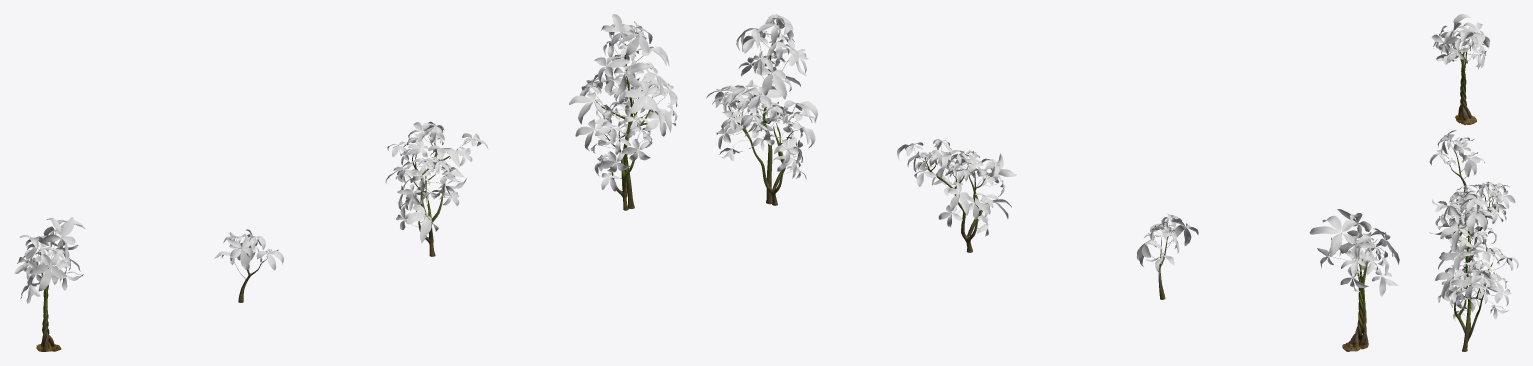
The model's file is pachira_aquatica_01_1k.fbx.
The picture shows the model from 3 angles, left to right: view 1: azimuth 30°, elevation 25°; view 2: azimuth 150°, elevation 25°; view 3: azimuth 270°, elevation 25°; orthographic projection. The views are drawn at different scales.
Visible parts, largest first — view 1: pachira_aquatica_01_leaves_d, pachira_aquatica_01_leaves_c, pachira_aquatica_01_leaves_a, pachira_aquatica_01_leaves_b, pachira_aquatica_01_bark_d, pachira_aquatica_01_bark_c, pachira_aquatica_01_bark_a; view 2: pachira_aquatica_01_leaves_d, pachira_aquatica_01_leaves_c, pachira_aquatica_01_leaves_a, pachira_aquatica_01_leaves_b, pachira_aquatica_01_bark_d, pachira_aquatica_01_bark_a, pachira_aquatica_01_bark_c; view 3: pachira_aquatica_01_leaves_d, pachira_aquatica_01_leaves_c, pachira_aquatica_01_leaves_a, pachira_aquatica_01_leaves_b, pachira_aquatica_01_bark_d, pachira_aquatica_01_bark_a, pachira_aquatica_01_bark_c, pachira_aquatica_01_bark_b.
Boxes of the visible parts, box(x1,y1,x2,y2) form: pachira_aquatica_01_leaves_d: box(569, 14, 677, 191); pachira_aquatica_01_leaves_c: box(385, 121, 487, 243); pachira_aquatica_01_leaves_a: box(14, 217, 85, 303); pachira_aquatica_01_leaves_b: box(214, 229, 283, 279); pachira_aquatica_01_bark_d: box(595, 44, 652, 210); pachira_aquatica_01_bark_c: box(409, 137, 457, 256); pachira_aquatica_01_bark_a: box(36, 265, 61, 351); pachira_aquatica_01_leaves_d: box(706, 14, 817, 179); pachira_aquatica_01_leaves_c: box(897, 139, 1016, 236); pachira_aquatica_01_leaves_a: box(1309, 209, 1399, 297); pachira_aquatica_01_leaves_b: box(1136, 213, 1198, 274); pachira_aquatica_01_bark_d: box(728, 43, 793, 205); pachira_aquatica_01_bark_a: box(1342, 259, 1368, 351); pachira_aquatica_01_bark_c: box(923, 159, 989, 252); pachira_aquatica_01_leaves_d: box(1429, 190, 1518, 321); pachira_aquatica_01_leaves_c: box(1432, 181, 1515, 244); pachira_aquatica_01_leaves_a: box(1431, 14, 1490, 69); pachira_aquatica_01_leaves_b: box(1429, 130, 1484, 179); pachira_aquatica_01_bark_d: box(1454, 219, 1492, 351); pachira_aquatica_01_bark_a: box(1455, 50, 1476, 125); pachira_aquatica_01_bark_c: box(1453, 190, 1497, 268); pachira_aquatica_01_bark_b: box(1447, 149, 1467, 195).
Bounding box in the file's own units: 687 × 190 × 99.7.
